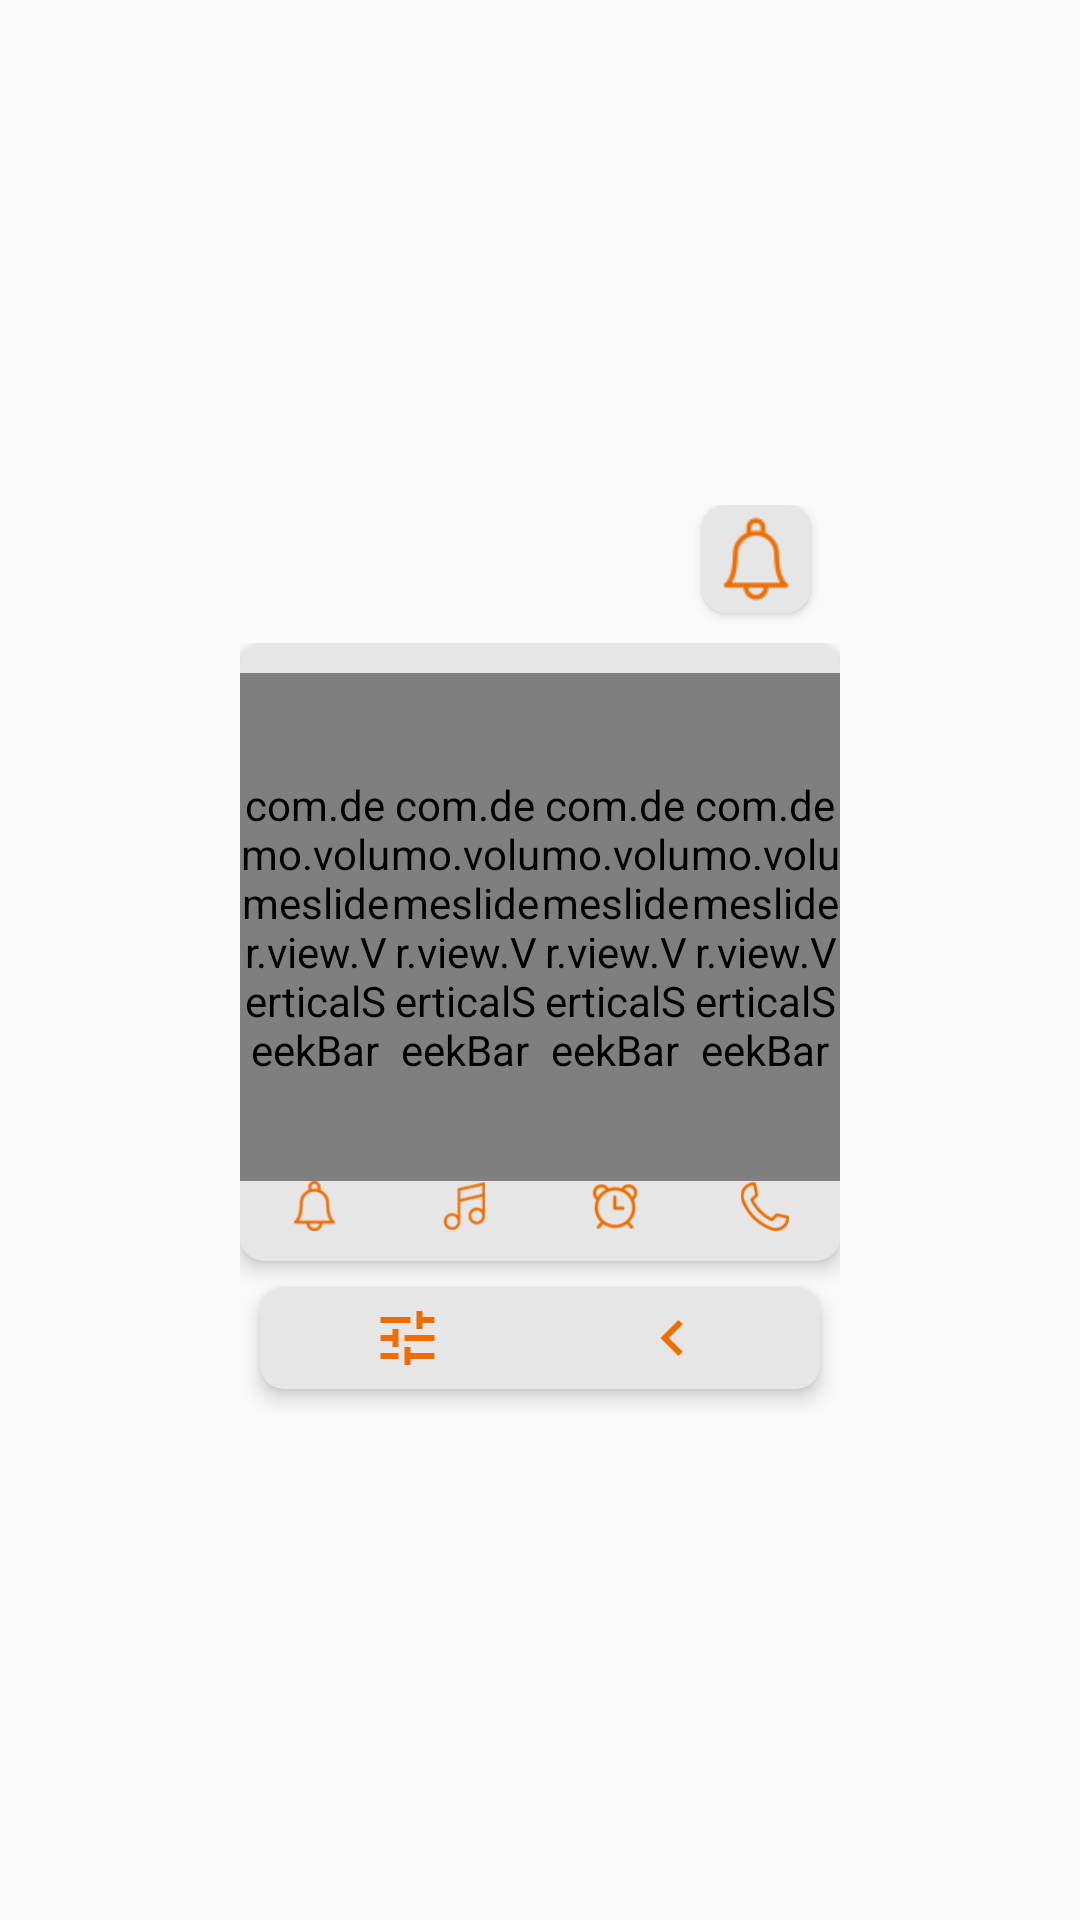

Icon click points for this 1080 × 1920 phone screenshot, format point (x, y):
alram: point (615, 1206)
call: point (765, 1206)
music: point (464, 1206)
navigate before: point (671, 1338)
ring: point (756, 559), point (314, 1206)
tune: point (407, 1338)
